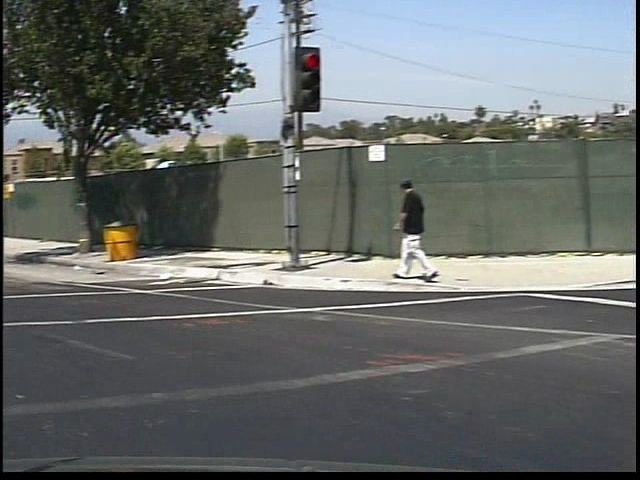person: (376, 160, 430, 286)
